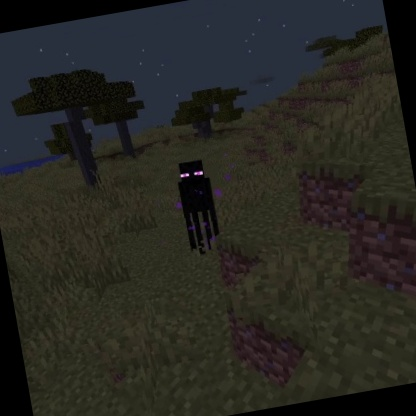enderman: (170, 154, 226, 258)
